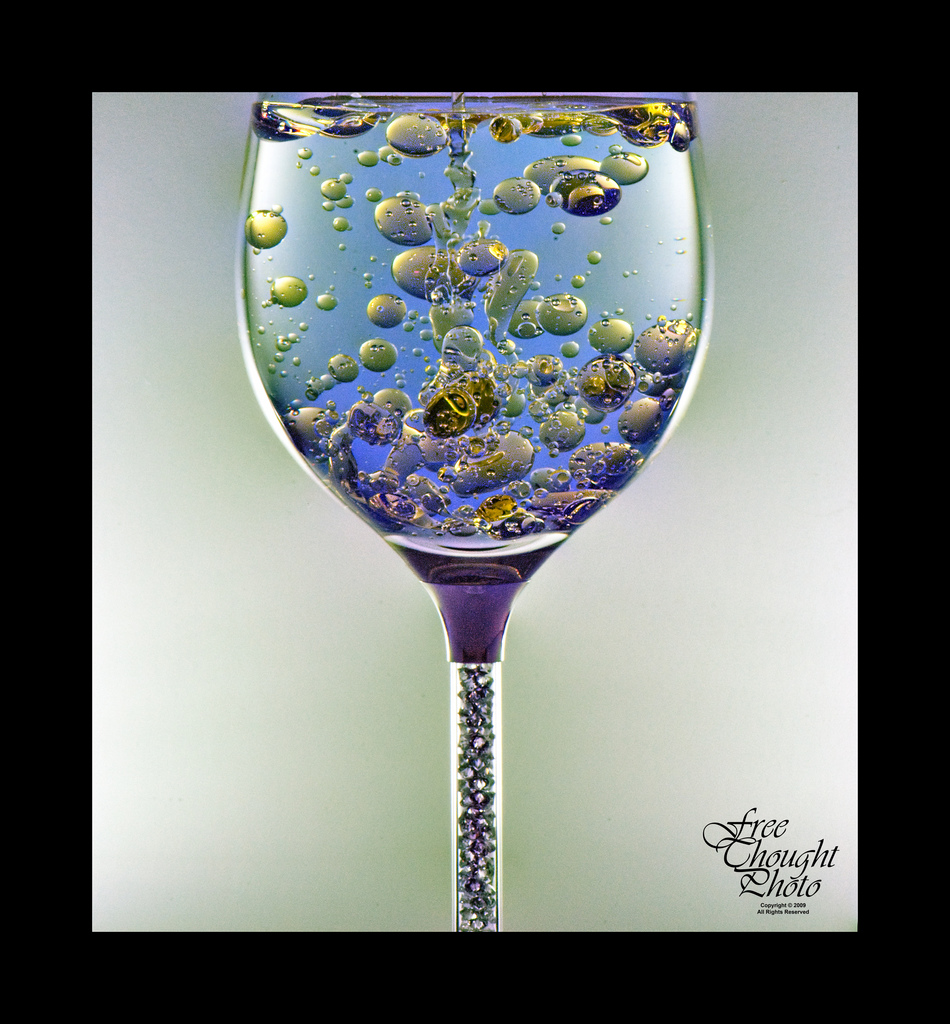glass of water: (253, 101, 696, 936)
